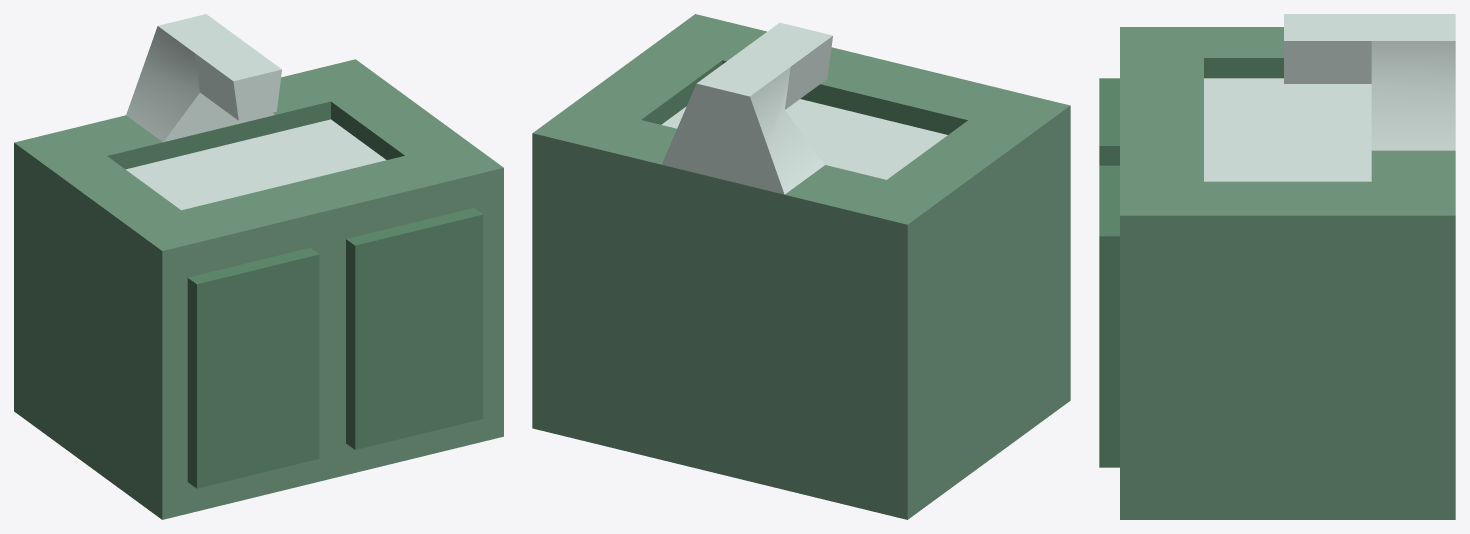
Rendered from Sink.fbx.
The picture shows the model from 3 angles, left to right: view 1: azimuth 30°, elevation 25°; view 2: azimuth 150°, elevation 25°; view 3: azimuth 270°, elevation 25°; orthographic projection. The views are drawn at different scales.
Visible parts, largest first — view 1: Sink; view 2: Sink; view 3: Sink.
Boxes of the visible parts, x1=… form: Sink: x1=14, y1=14, x2=503, y2=519; Sink: x1=532, y1=14, x2=1070, y2=519; Sink: x1=1099, y1=14, x2=1455, y2=519.
Size of the model in its own units: 64.77 by 63.51 by 51.69.
